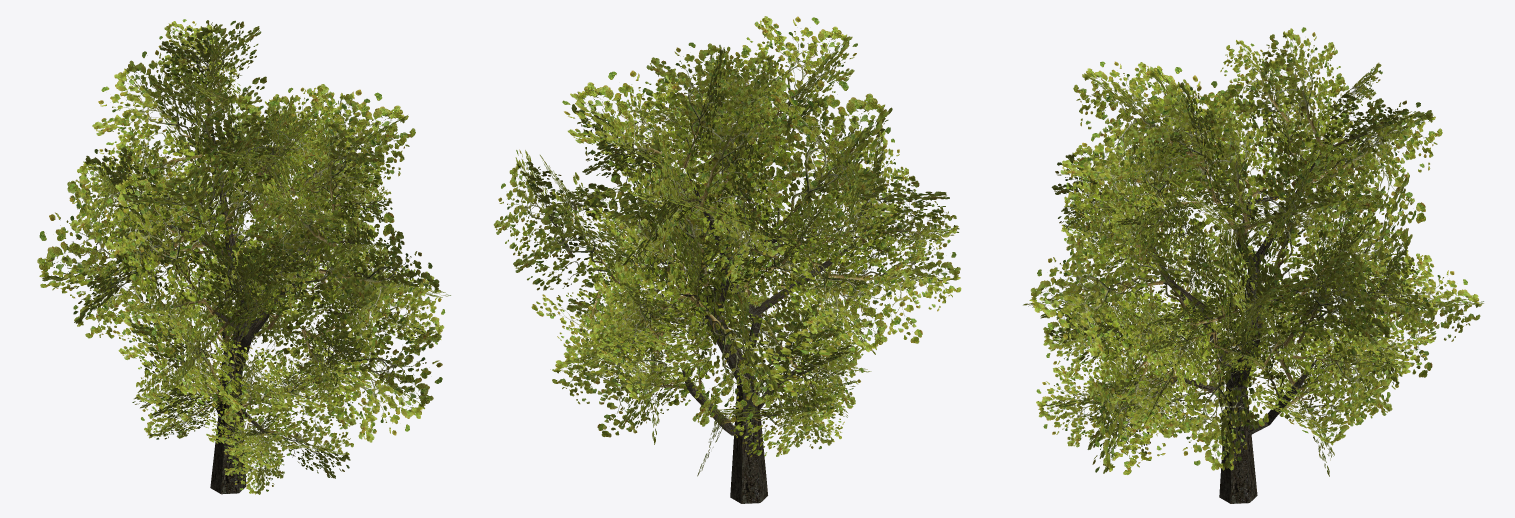
File: tree_e.FBX
3 views of the same model, side by side, from view 1: azimuth 30°, elevation 25°; view 2: azimuth 150°, elevation 25°; view 3: azimuth 270°, elevation 25° (orthographic). The views are drawn at different scales.
Parts seen in each view (by area): view 1: tree_e; view 2: tree_e; view 3: tree_e.
Boxes of the visible parts, x1,y1,x2,y2 form: tree_e: (37, 19, 450, 494); tree_e: (493, 16, 961, 503); tree_e: (1023, 27, 1483, 503).
Size of the model in its own units: 21.36 by 25.07 by 23.04.
Materials: 2 (2 with a texture image).
